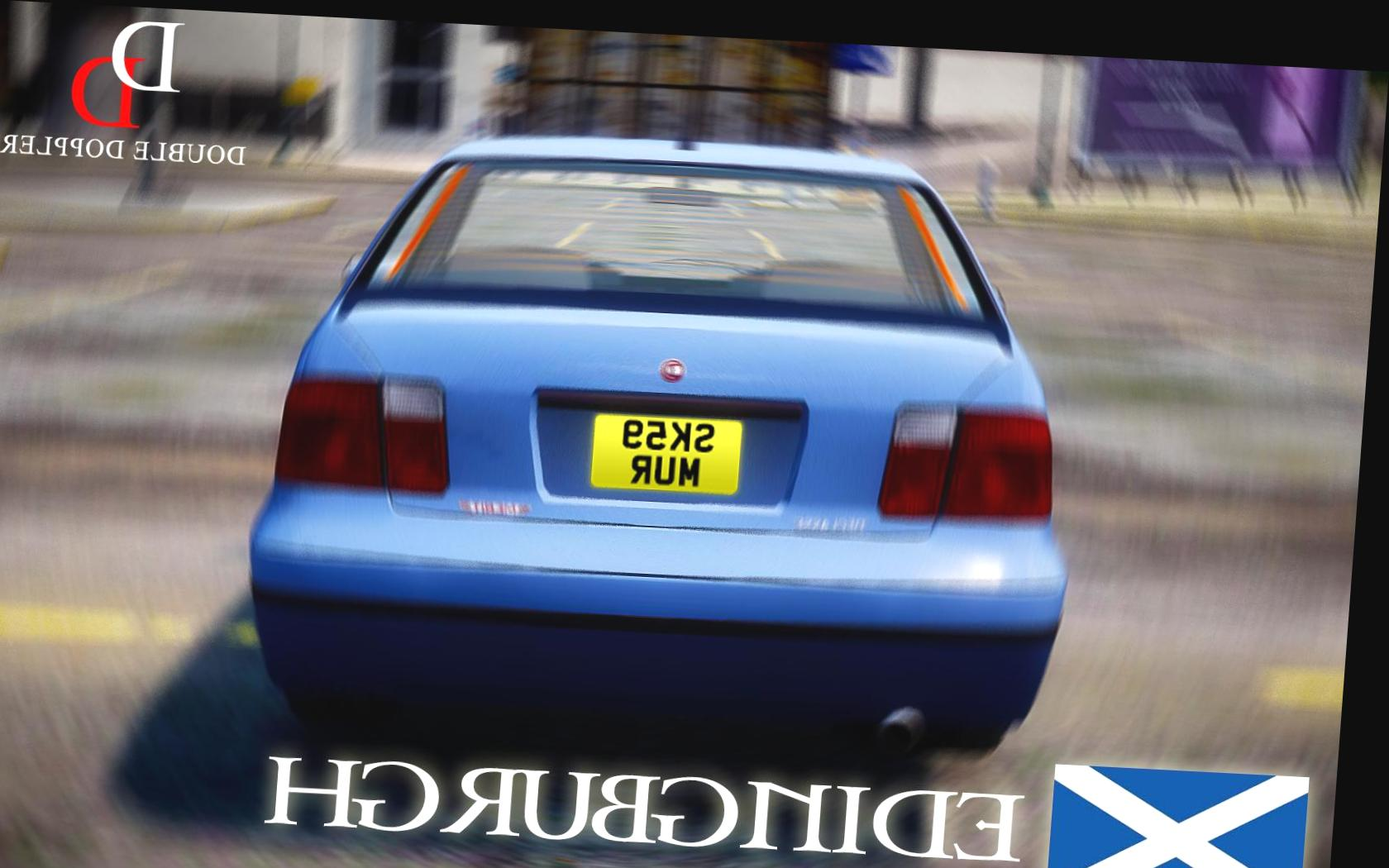License_Plate: (577, 394, 762, 517)
